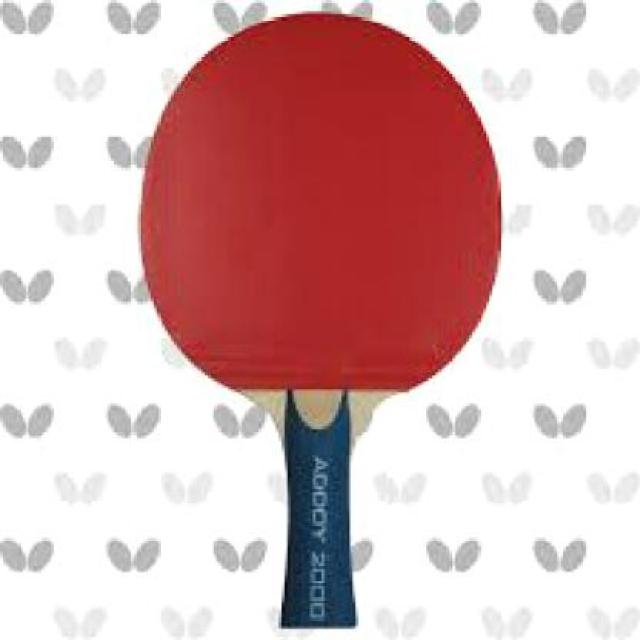table_tennis_racket: (137, 7, 509, 430)
